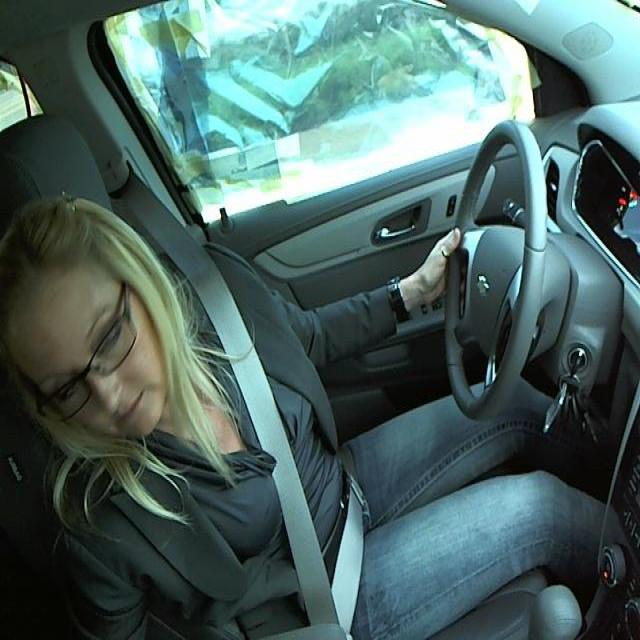seatbelt: (187, 272, 377, 629)
